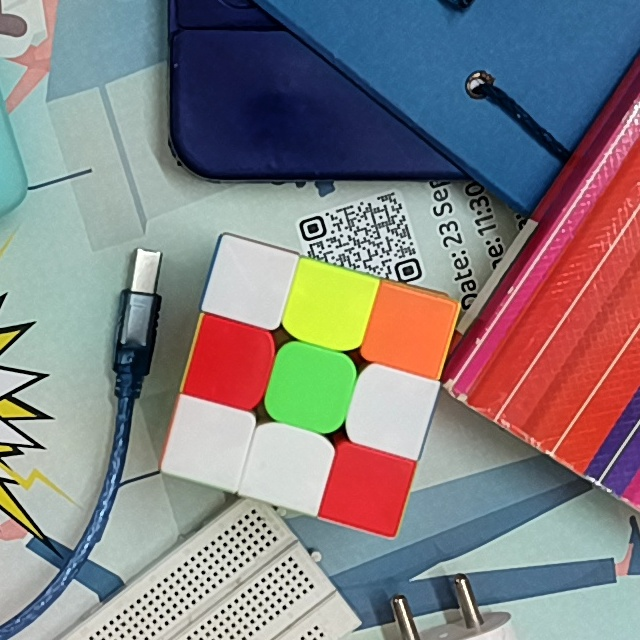tile: (280, 355, 343, 419), (378, 301, 440, 364), (176, 412, 240, 473), (221, 251, 282, 313), (201, 330, 260, 394), (363, 379, 421, 439), (299, 279, 359, 335), (339, 459, 397, 516), (259, 440, 317, 494)
